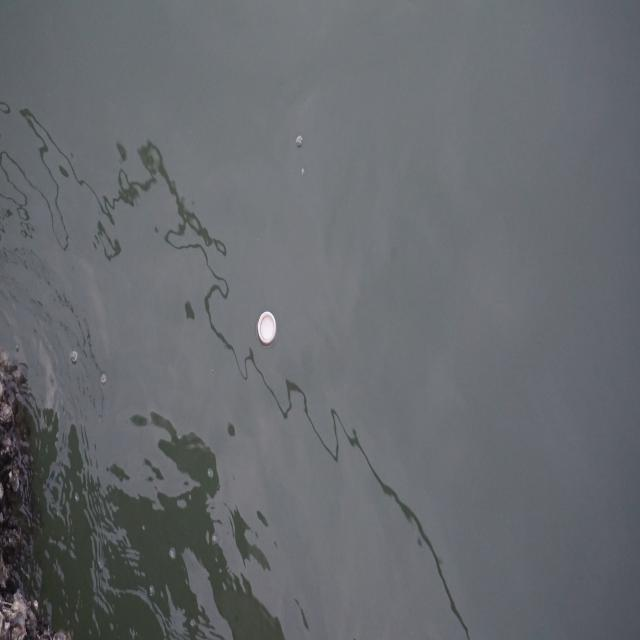Botol Plastik: (257, 308, 279, 351)
